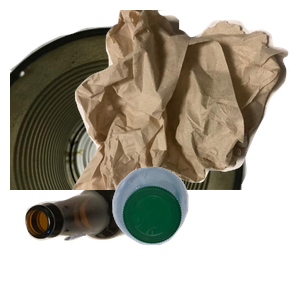glass: (23, 179, 183, 300)
metal: (10, 23, 250, 203)
plastic: (110, 164, 300, 300)
trash: (70, 10, 300, 190)
